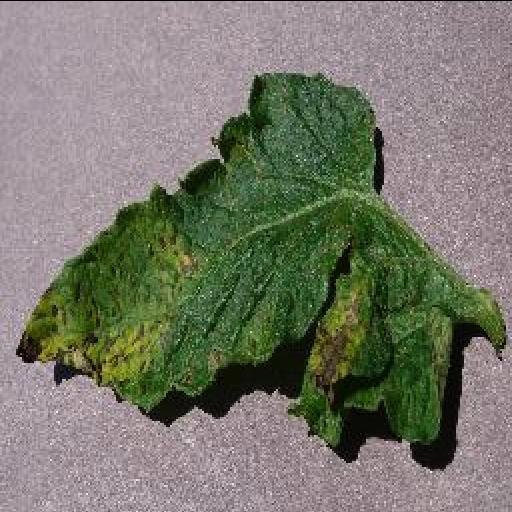disease_tomato: (12, 70, 452, 450)
